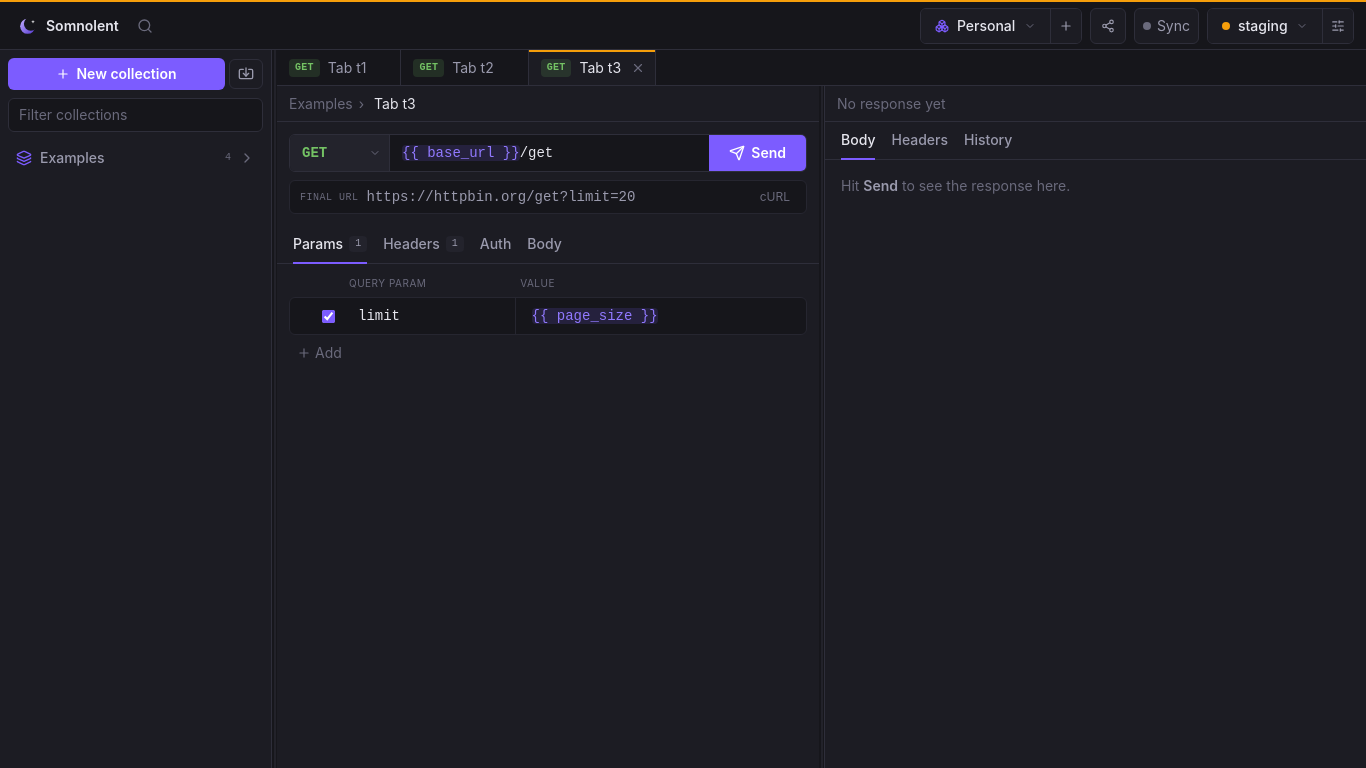
Scenario: tab strip › "close others" leaves only the clicked one
This screenshot has width=1366, height=768.
Step 1. Right-click the tab "GET Tab t1" → (339, 68), box [277,50,401,86]
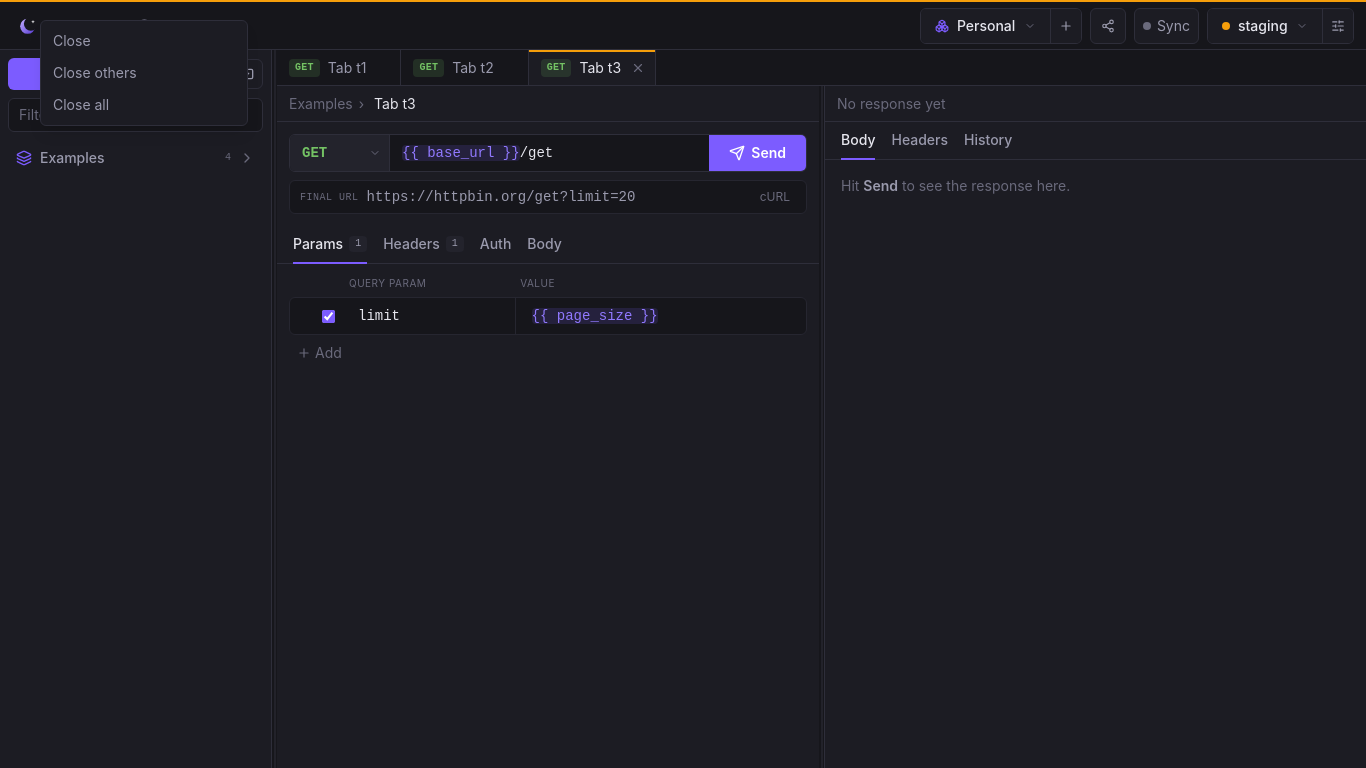
Step 2. Click the menu item "Close others" → (144, 73), box [41,57,247,89]
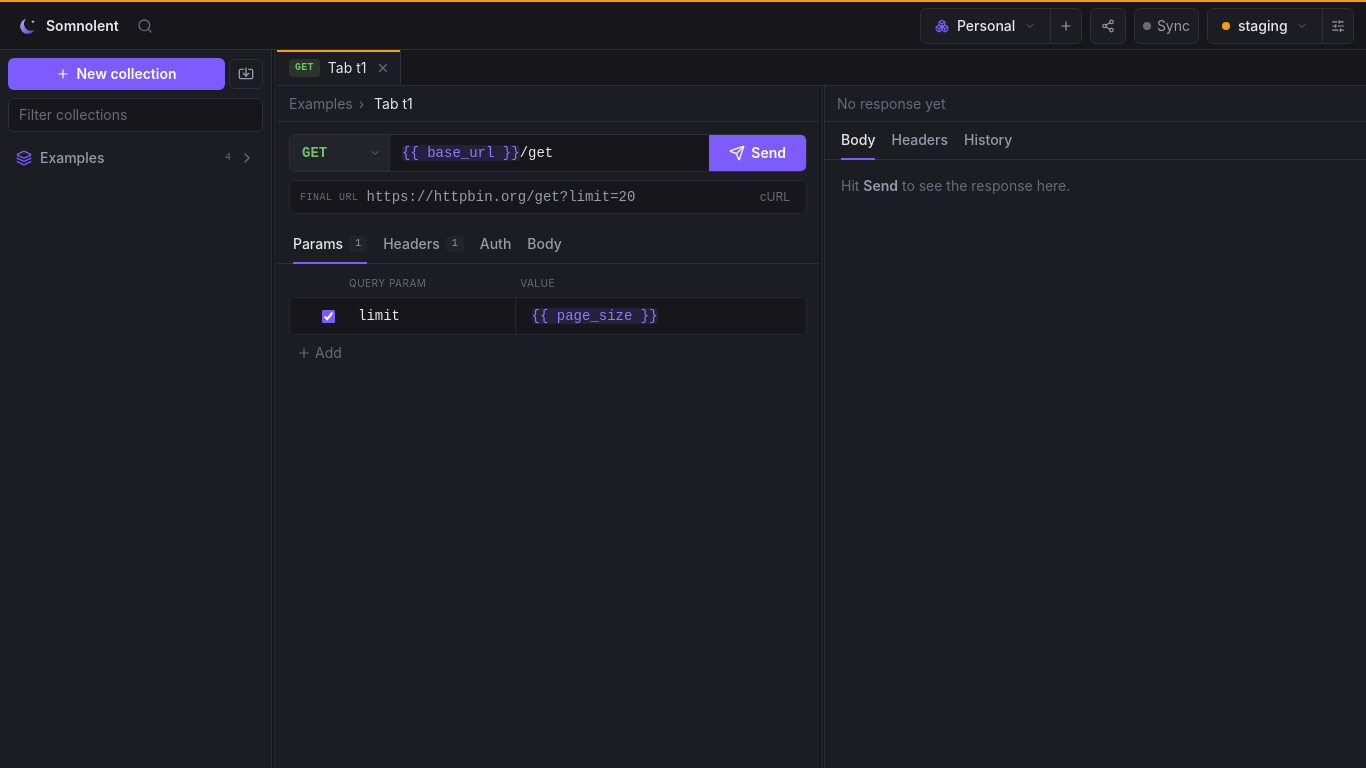
Result: the menu is gone
